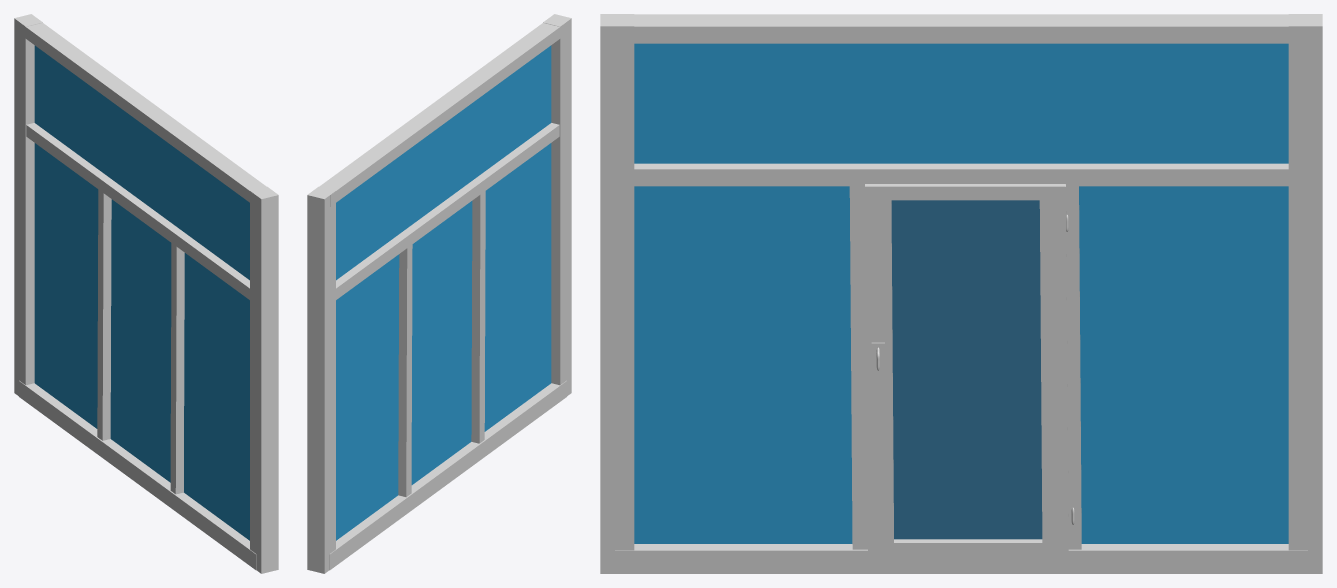
The model's file is бок.fbx.
3 views of the same model, side by side, from view 1: azimuth 30°, elevation 25°; view 2: azimuth 150°, elevation 25°; view 3: azimuth 270°, elevation 25° (orthographic). The views are drawn at different scales.
Parts seen in each view (by area): view 1: Plane, Cube, Cube.001, Cube.003, Cube.004, Cube.002, Cube.005, Cube.006; view 2: Plane, Cube.001, Cube, Cube.003, Cube.004, Cube.002, Cube.005, Cube.006; view 3: Plane, Plane.001, Cube.003, Cube, Cube.001, Cube.004, Cube.002, Cube.010, Cube.008, Cube.005, Cube.006, Cube.007 (+1 smaller).
Part boxes in pixels (left/top/right/bottom): Plane: left=34, top=45, right=249, bottom=540; Cube: left=250, top=186, right=278, bottom=573; Cube.001: left=14, top=14, right=42, bottom=395; Cube.003: left=20, top=23, right=266, bottom=206; Cube.004: left=18, top=380, right=256, bottom=569; Cube.002: left=26, top=123, right=249, bottom=299; Cube.005: left=170, top=243, right=184, bottom=494; Cube.006: left=97, top=189, right=111, bottom=440; Plane: left=336, top=45, right=551, bottom=540; Cube.001: left=307, top=186, right=335, bottom=573; Cube: left=543, top=14, right=571, bottom=395; Cube.003: left=319, top=23, right=565, bottom=206; Cube.004: left=329, top=380, right=567, bottom=569; Cube.002: left=336, top=123, right=559, bottom=299; Cube.005: left=471, top=191, right=485, bottom=443; Cube.006: left=398, top=244, right=412, bottom=497; Plane: left=634, top=43, right=1288, bottom=543; Plane.001: left=891, top=200, right=1042, bottom=539; Cube.003: left=634, top=14, right=1288, bottom=43; Cube: left=600, top=14, right=634, bottom=573; Cube.001: left=1288, top=14, right=1322, bottom=573; Cube.004: left=615, top=544, right=1307, bottom=573; Cube.002: left=634, top=163, right=1288, bottom=186; Cube.010: left=1039, top=184, right=1068, bottom=556; Cube.008: left=865, top=187, right=893, bottom=556; Cube.005: left=849, top=186, right=867, bottom=549; Cube.006: left=1066, top=186, right=1081, bottom=549; Cube.007: left=865, top=184, right=1065, bottom=200.
Bounding box in the file's own units: 7.69 × 107 × 128.
